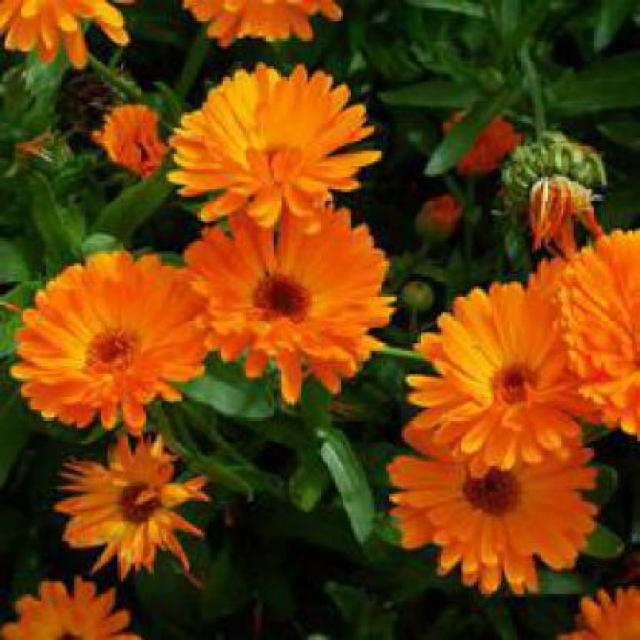Flower: (182, 194, 400, 405), (384, 399, 599, 596), (10, 248, 221, 435), (405, 279, 602, 476), (163, 62, 382, 228), (51, 430, 212, 581), (550, 228, 638, 439), (463, 463, 523, 515), (253, 275, 310, 322), (85, 328, 139, 374), (492, 364, 538, 402), (120, 481, 157, 522)
